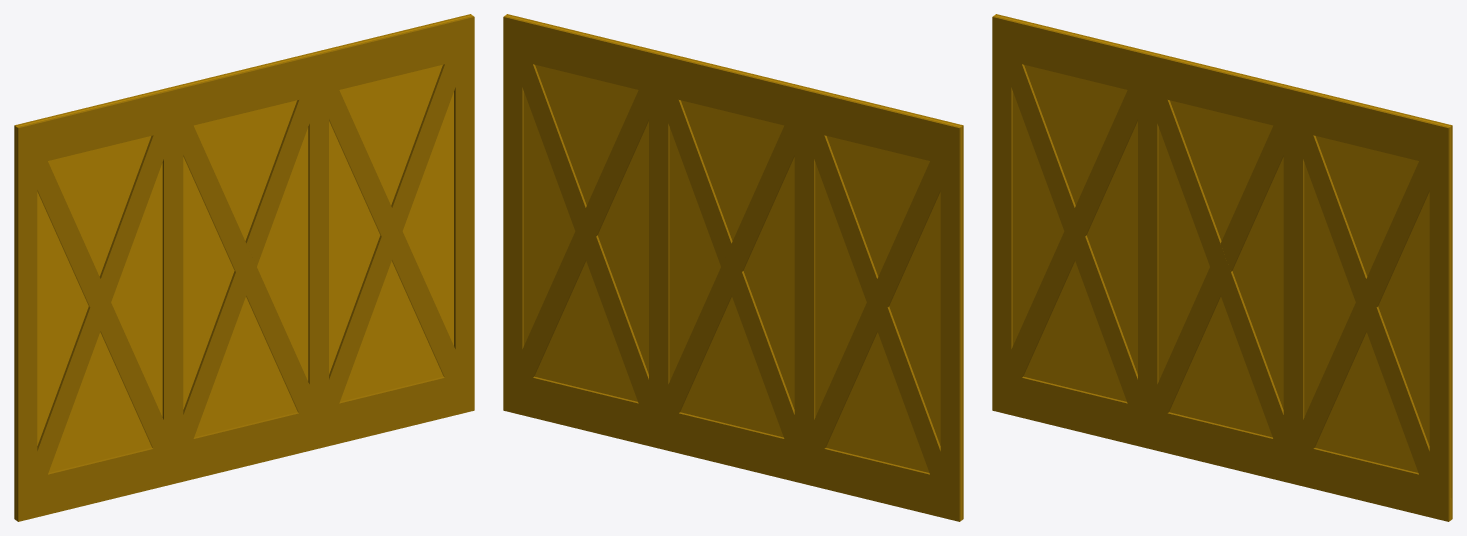
The model's file is ShopBarnDoor.glb.
3 renders of one model, left to right at view 1: azimuth 30°, elevation 25°; view 2: azimuth 150°, elevation 25°; view 3: azimuth 330°, elevation 25°, orthographic.
Parts seen in each view (by area): view 1: 1/2Plywood sheet (×2), Bottom (×5), 1/2PlywoodCenter sheet, CrossFull (×3), Side (×3), CenterVertical (×2), CrossShortTop (×3), CrossShortBottom (×3), FillerLong sheet; view 2: 1/2Plywood sheet (×2), Bottom (×5), 1/2PlywoodCenter sheet, CrossFull (×3), Side (×3), CenterVertical (×2), CrossShortTop (×3), CrossShortBottom (×3), FillerLong sheet; view 3: 1/2Plywood sheet (×2), Bottom (×5), 1/2PlywoodCenter sheet, CrossFull (×3), Side (×3), CenterVertical (×2), CrossShortBottom (×3), CrossShortTop (×3), FillerLong sheet.
Boxes of the visible parts, <box> form: 1/2Plywood sheet (×2): <box>16,65,453,498</box>; Bottom (×5): <box>34,18,455,517</box>; 1/2PlywoodCenter sheet: <box>183,100,308,437</box>; CrossFull (×3): <box>37,90,455,448</box>; Side (×3): <box>14,16,474,521</box>; CenterVertical (×2): <box>162,92,328,446</box>; CrossShortTop (×3): <box>99,61,455,301</box>; CrossShortBottom (×3): <box>37,235,391,476</box>; FillerLong sheet: <box>138,15,472,97</box>; 1/2Plywood sheet (×2): <box>524,65,961,498</box>; Bottom (×5): <box>522,18,943,517</box>; 1/2PlywoodCenter sheet: <box>669,100,794,437</box>; CrossFull (×3): <box>522,90,940,448</box>; Side (×3): <box>503,16,963,521</box>; CenterVertical (×2): <box>649,92,815,446</box>; CrossShortTop (×3): <box>522,61,878,301</box>; CrossShortBottom (×3): <box>586,235,940,476</box>; FillerLong sheet: <box>505,15,839,97</box>; 1/2Plywood sheet (×2): <box>1013,65,1450,498</box>; Bottom (×5): <box>1011,18,1432,517</box>; 1/2PlywoodCenter sheet: <box>1158,100,1283,437</box>; CrossFull (×3): <box>1011,61,1429,476</box>; Side (×3): <box>992,16,1452,521</box>; CenterVertical (×2): <box>1138,92,1304,446</box>; CrossShortBottom (×3): <box>1011,231,1366,448</box>; CrossShortTop (×3): <box>1075,90,1429,306</box>; FillerLong sheet: <box>1116,45,1450,148</box>.
Bounding box in the file's own units: 3.33 × 2.74 × 0.05.
